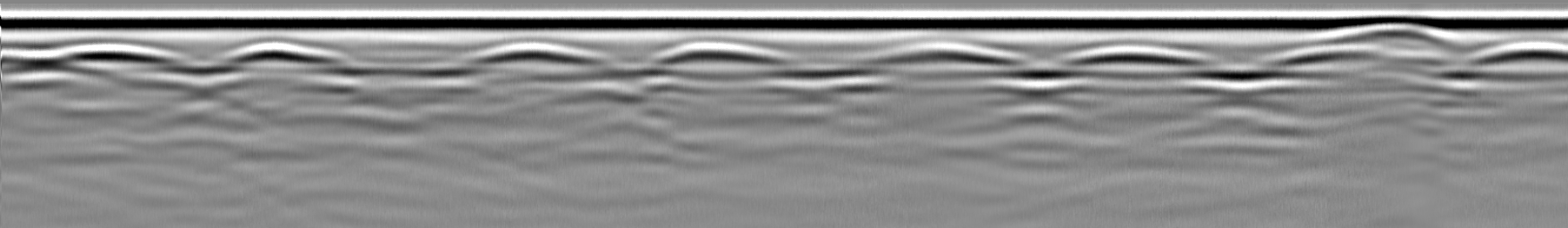pipe: (1320, 13, 1464, 53)
steel: (870, 37, 1028, 76), (1067, 39, 1224, 73), (473, 37, 611, 72), (43, 40, 191, 71), (657, 37, 790, 70), (217, 39, 343, 72), (1255, 46, 1397, 73), (1477, 41, 1568, 76)
